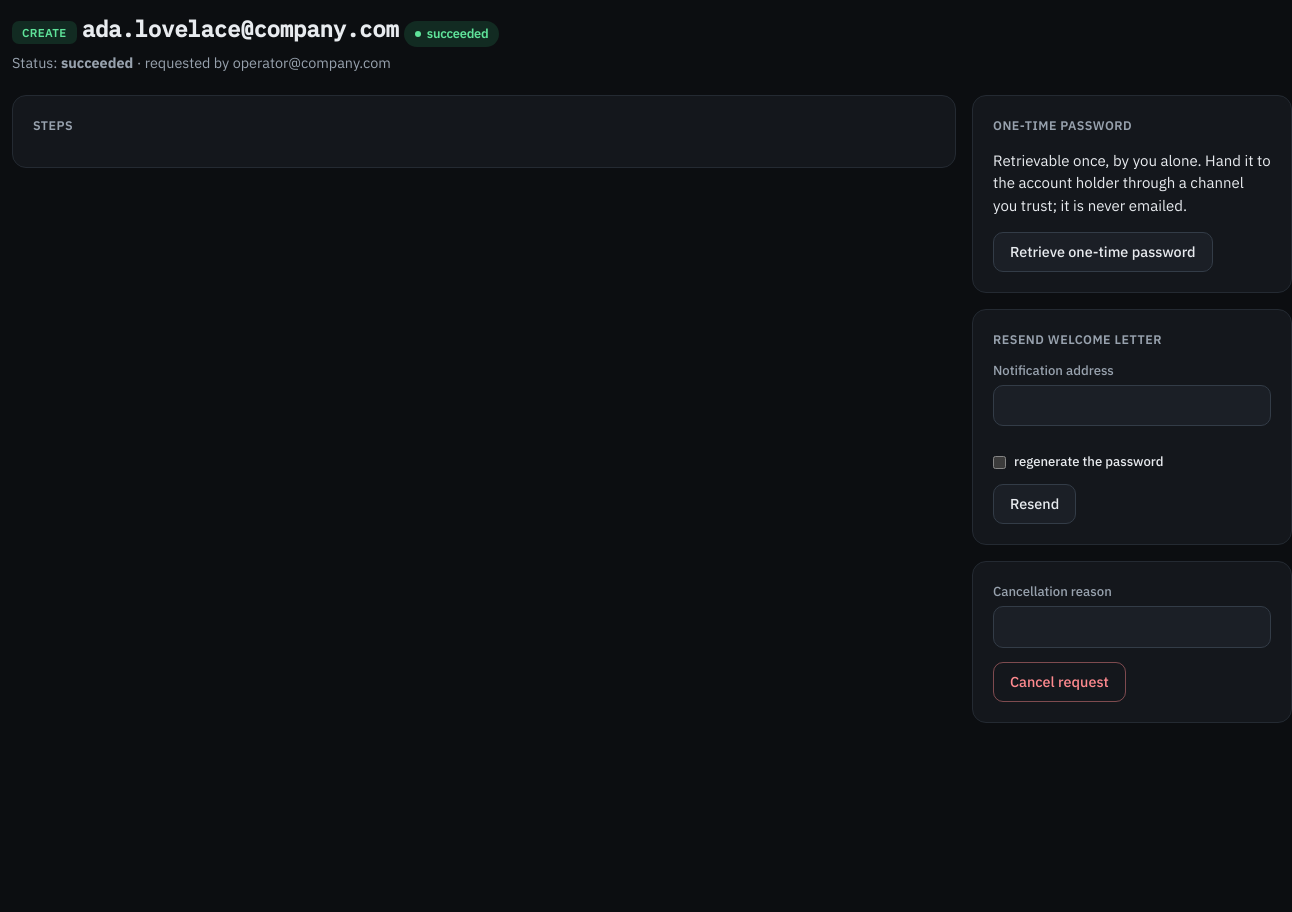
it: AC-10: a completed onboarding offers a resend › surfaces CredentialUnavailable as its own remedy rather than a generic failure
Type "ada@personal.example" into the field labelled "Notification address".
click(1132, 406); type("ada@personal.example")  # box top-left (993, 385), bottom-right (1271, 426)
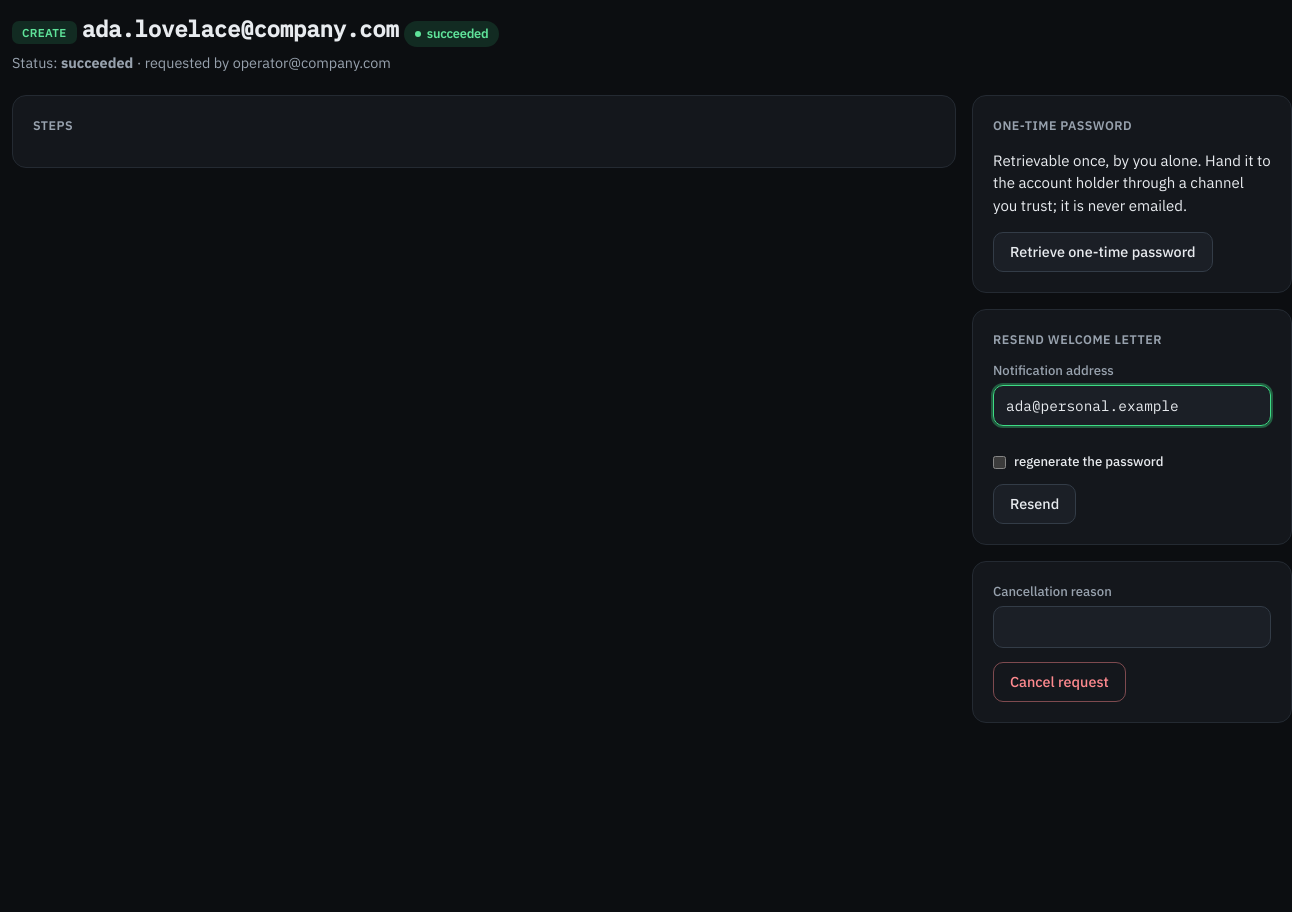
Click the button "Resend".
click(1035, 504)  # box top-left (993, 484), bottom-right (1076, 524)
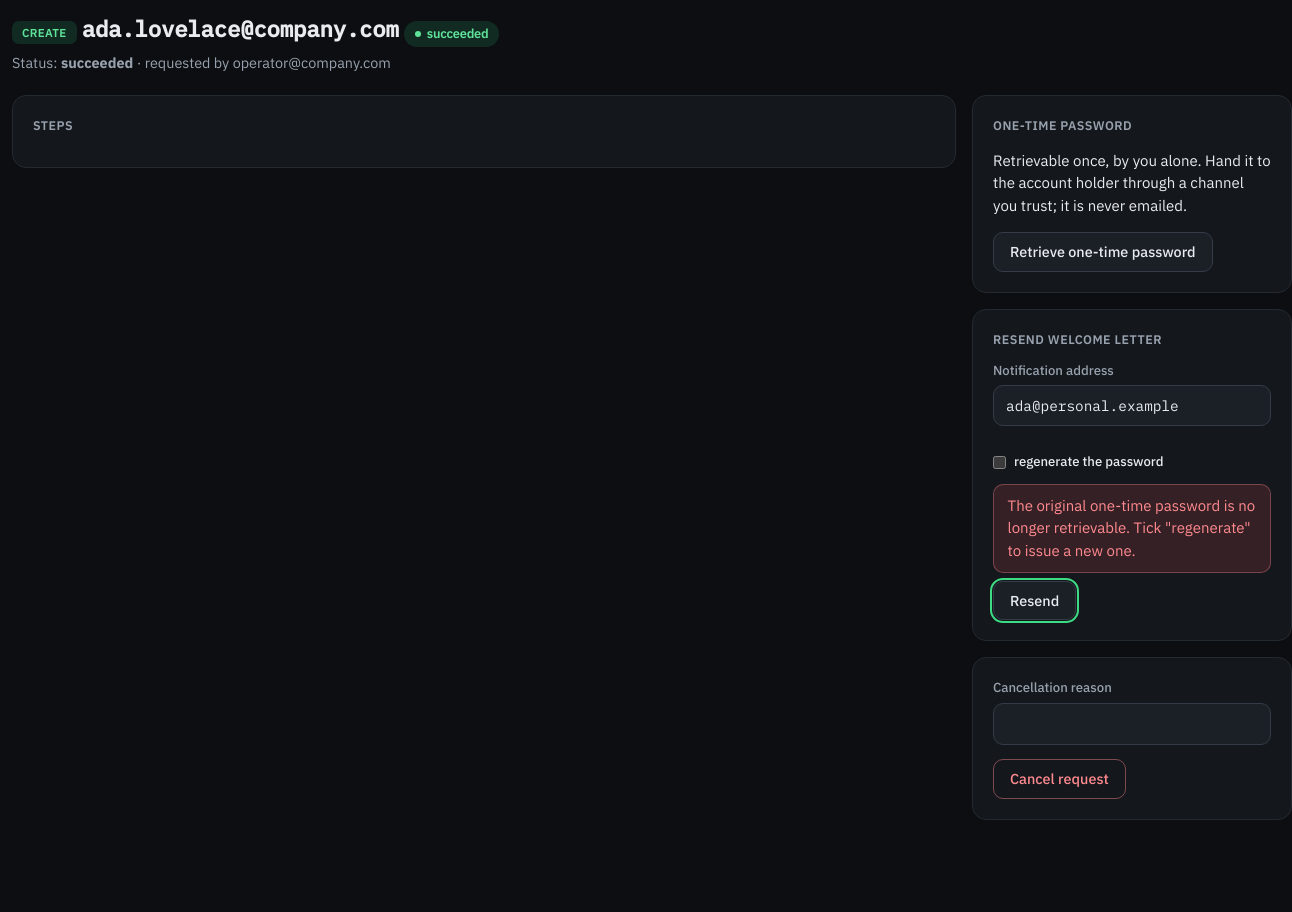
Now the message shows "regenerate", box top-left (1008, 496), bottom-right (1255, 560)
